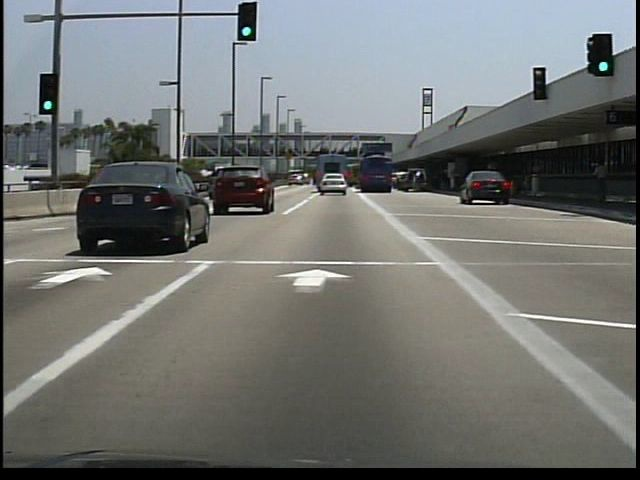person: (589, 158, 610, 210)
